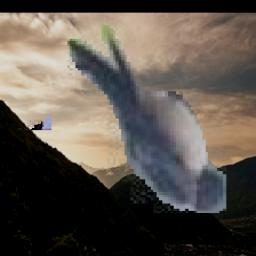Crow: (15, 38, 50, 130)
Swallow: (66, 22, 225, 213)
